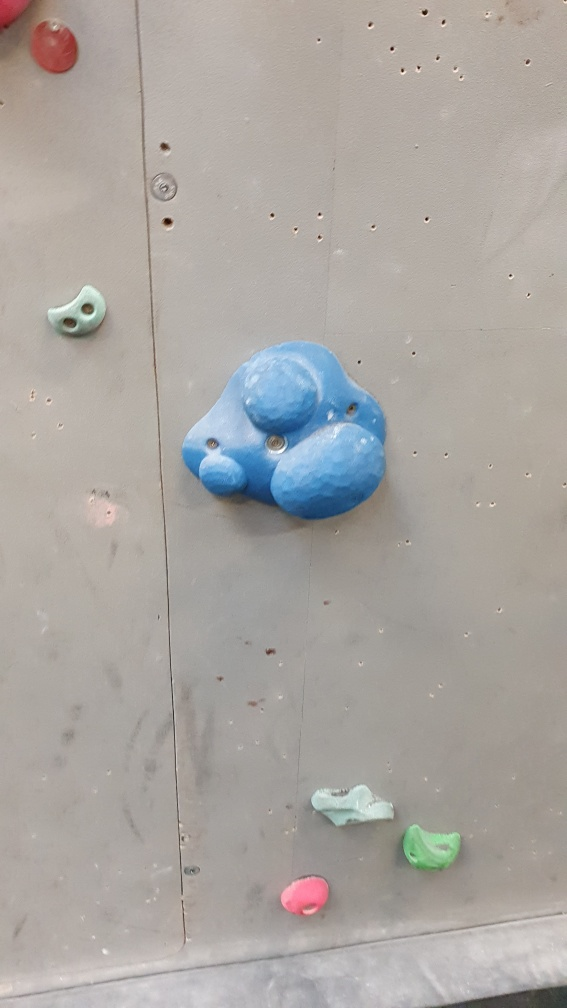Sloper: (179, 332, 390, 527)
